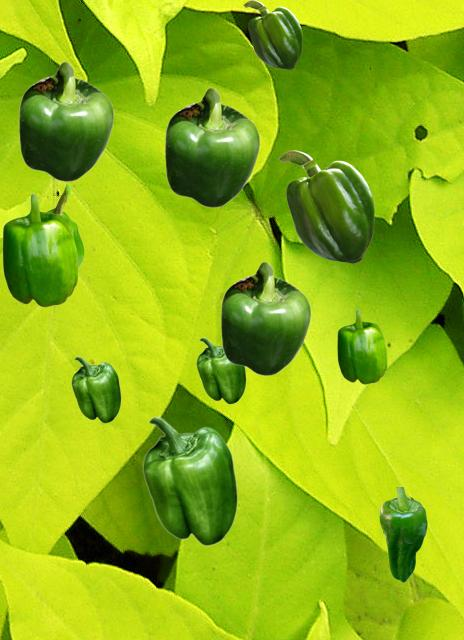bell_pepper: (142, 416, 237, 545), (164, 87, 259, 207), (18, 61, 113, 181), (278, 150, 373, 262), (220, 261, 310, 375), (2, 193, 77, 306), (379, 487, 426, 581), (243, 0, 301, 68), (337, 309, 386, 383), (71, 356, 120, 422), (196, 337, 245, 403), (47, 183, 83, 268)
